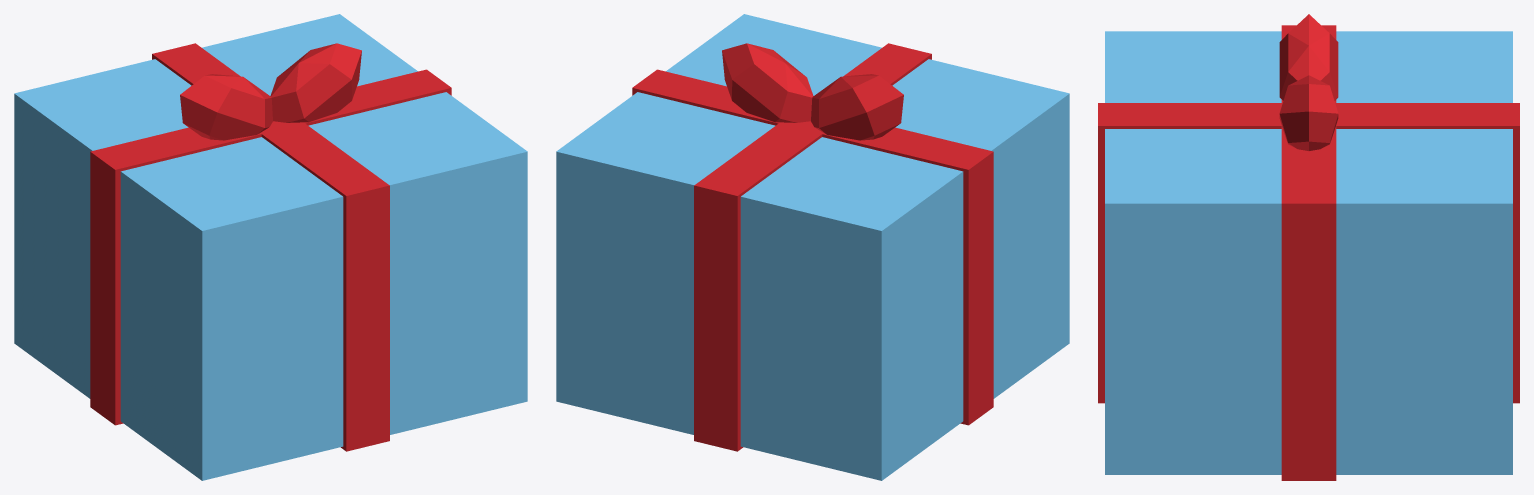
Rendered from gift_box.glb.
The picture shows the model from 3 angles, left to right: view 1: azimuth 30°, elevation 25°; view 2: azimuth 150°, elevation 25°; view 3: azimuth 270°, elevation 25°; orthographic projection. The views are drawn at different scales.
Parts seen in each view (by area): view 1: box_gift_paper, ribbon_gift_ribbon; view 2: box_gift_paper, ribbon_gift_ribbon; view 3: box_gift_paper, ribbon_gift_ribbon.
Boxes of the visible parts, x1=… form: box_gift_paper: x1=14, y1=14, x2=527, y2=480; ribbon_gift_ribbon: x1=90, y1=43, x2=451, y2=451; box_gift_paper: x1=556, y1=14, x2=1069, y2=480; ribbon_gift_ribbon: x1=632, y1=43, x2=993, y2=451; box_gift_paper: x1=1105, y1=31, x2=1512, y2=474; ribbon_gift_ribbon: x1=1098, y1=14, x2=1519, y2=480.
Bounding box in the file's own units: 0.31 × 0.2781 × 0.31.
